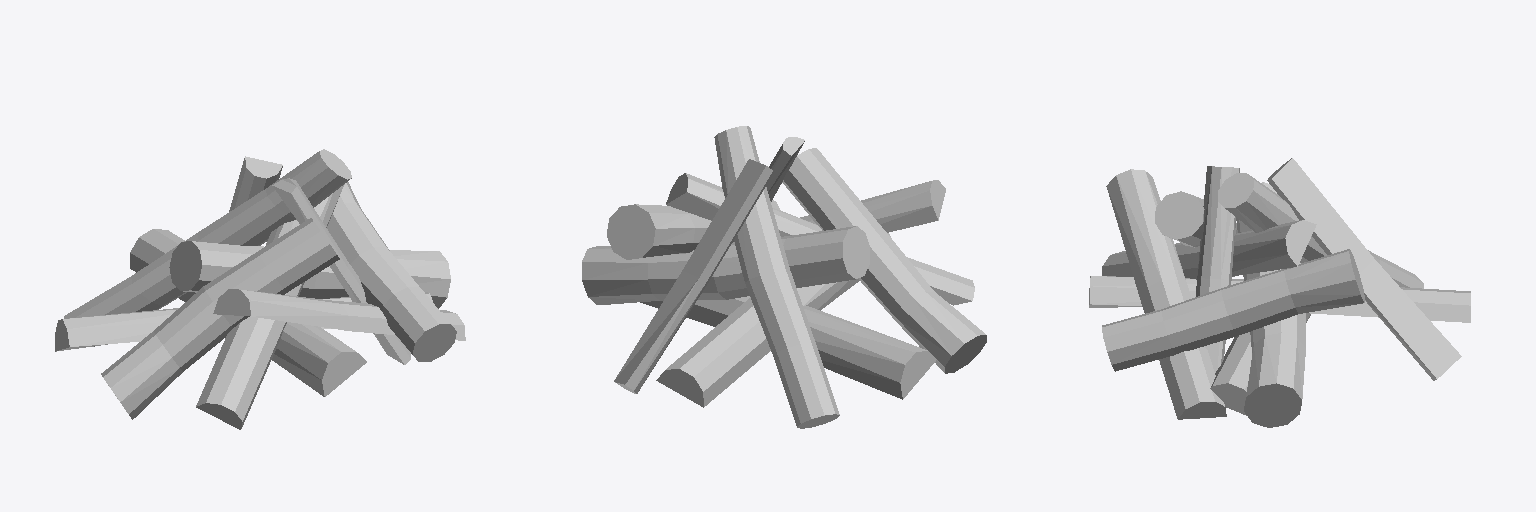
File: log.obj
The picture shows the model from 3 angles: view 1: azimuth 30°, elevation 25°; view 2: azimuth 150°, elevation 25°; view 3: azimuth 270°, elevation 25°; orthographic projection.
Visible parts, largest first — view 1: polySurface59; view 2: polySurface59; view 3: polySurface59.
Part boxes in pixels (x1,y1,x2,y2): polySurface59: (55, 149, 465, 429); polySurface59: (582, 126, 986, 428); polySurface59: (1089, 158, 1470, 427).
Size of the model in its own units: 1.8 by 0.9995 by 1.64.